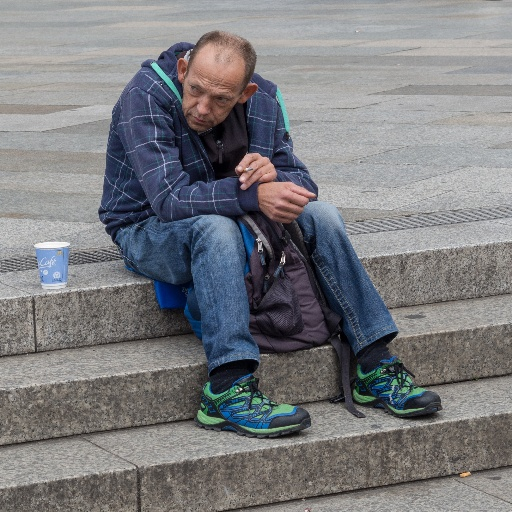hand: (254, 179, 317, 227), (235, 148, 273, 187)
